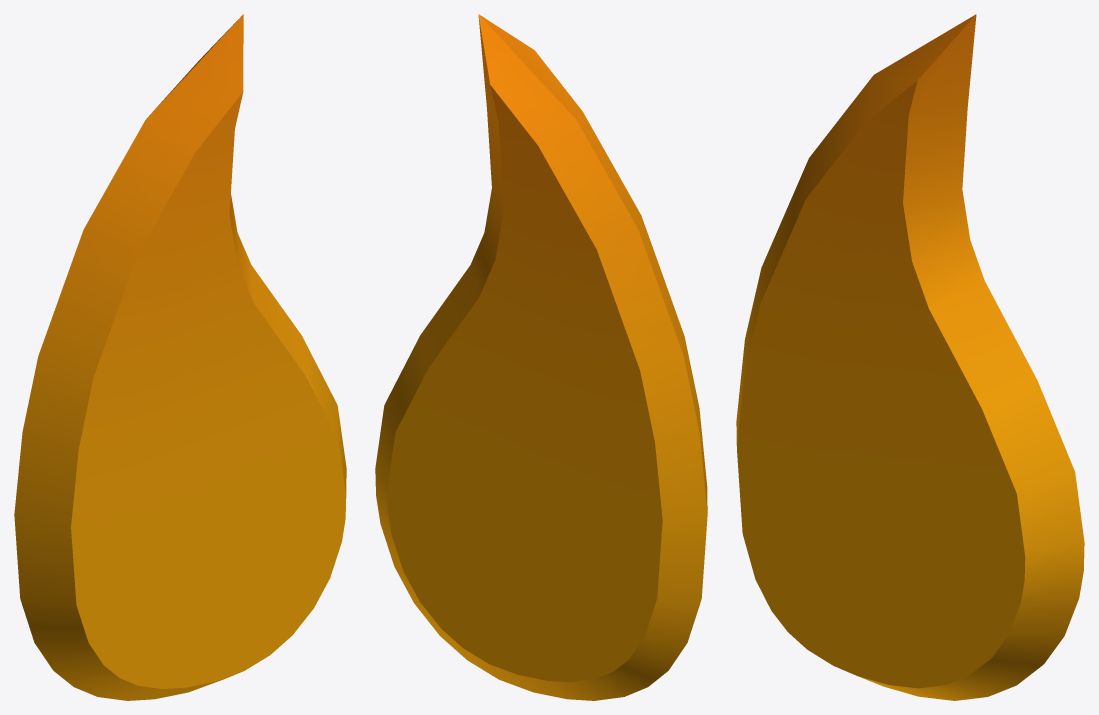
Rendered from FlameShape02.fbx.
3 renders of one model, left to right at view 1: azimuth 30°, elevation 25°; view 2: azimuth 150°, elevation 25°; view 3: azimuth 330°, elevation 25°, orthographic. The views are drawn at different scales.
Parts seen in each view (by area): view 1: FlameShape02; view 2: FlameShape02; view 3: FlameShape02.
Boxes of the visible parts, box(x1,y1,x2,y2) form: FlameShape02: box(14, 14, 346, 700); FlameShape02: box(375, 14, 707, 700); FlameShape02: box(736, 14, 1084, 700).
Size of the model in its own units: 47.8 by 91.42 by 11.09.
Materials: 1 (1 with a texture image).
